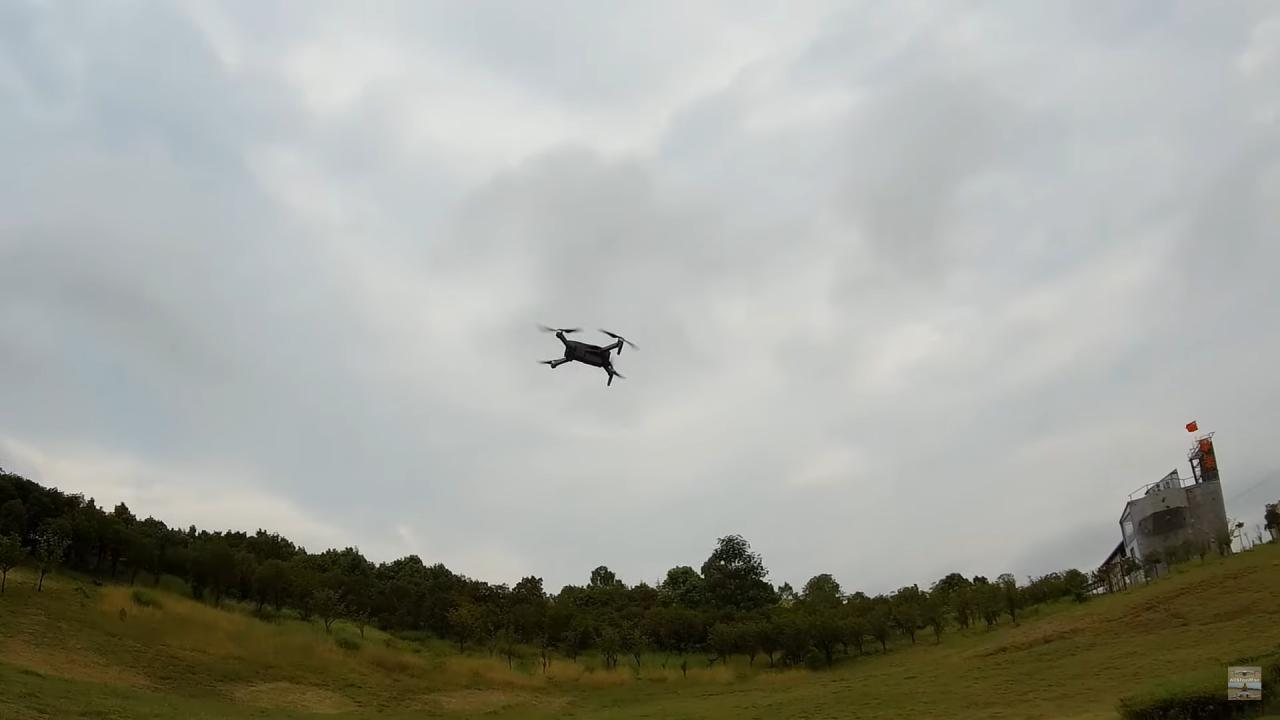Drone: (521, 312, 651, 395)
